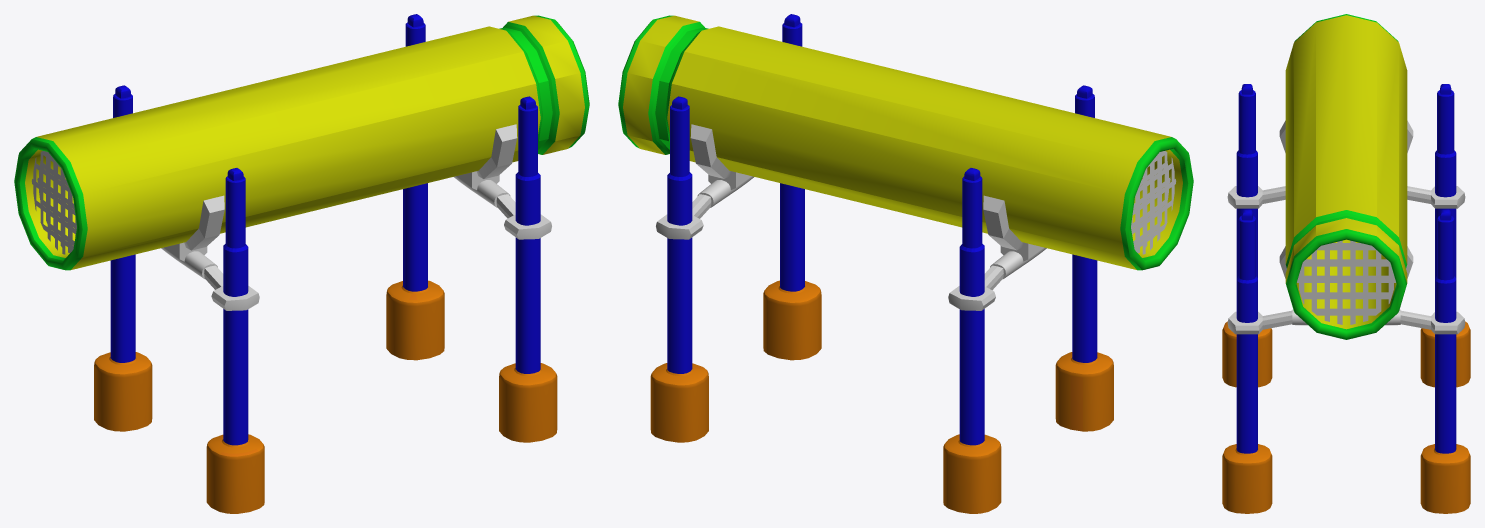
File: PipeFragmentID.fbx
The picture shows the model from 3 angles, left to right: view 1: azimuth 30°, elevation 25°; view 2: azimuth 150°, elevation 25°; view 3: azimuth 270°, elevation 25°; orthographic projection. The views are drawn at different scales.
Visible parts, largest first — view 1: Pipe, pCube15 (×2), pCube16 (×2), pCube10 (×2), pCube11 (×2), grate; view 2: Pipe, pCube16 (×2), pCube15 (×2), pCube10 (×2), pCube11 (×2), grate; view 3: Pipe, pCube16 (×2), pCube15 (×2), grate1, pCube10 (×2), pCube11.
Boxes of the visible parts, x1=… form: Pipe: x1=14, y1=15, x2=589, y2=270; pCube15 (×2): x1=206, y1=96, x2=557, y2=513; pCube16 (×2): x1=94, y1=14, x2=444, y2=431; pCube10 (×2): x1=161, y1=176, x2=551, y2=310; pCube11 (×2): x1=164, y1=124, x2=517, y2=261; grate: x1=31, y1=151, x2=76, y2=254; Pipe: x1=618, y1=15, x2=1193, y2=270; pCube16 (×2): x1=650, y1=96, x2=1001, y2=513; pCube15 (×2): x1=763, y1=14, x2=1113, y2=431; pCube10 (×2): x1=656, y1=176, x2=1046, y2=310; pCube11 (×2): x1=690, y1=124, x2=1043, y2=261; grate: x1=1131, y1=151, x2=1176, y2=254; Pipe: x1=1285, y1=14, x2=1407, y2=339; pCube16 (×2): x1=1420, y1=84, x2=1470, y2=513; pCube15 (×2): x1=1222, y1=84, x2=1272, y2=513; grate1: x1=1297, y1=240, x2=1395, y2=324; pCube10 (×2): x1=1227, y1=186, x2=1465, y2=334; pCube11: x1=1279, y1=246, x2=1413, y2=278.
Size of the model in its own units: 10.47 by 6.86 by 5.01.
